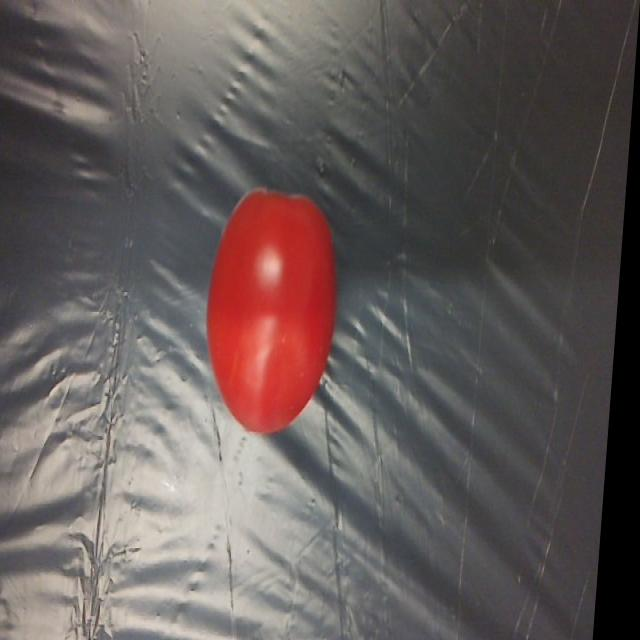kirmizi: (193, 188, 358, 444)
